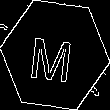M_N: (31, 27, 79, 83)
